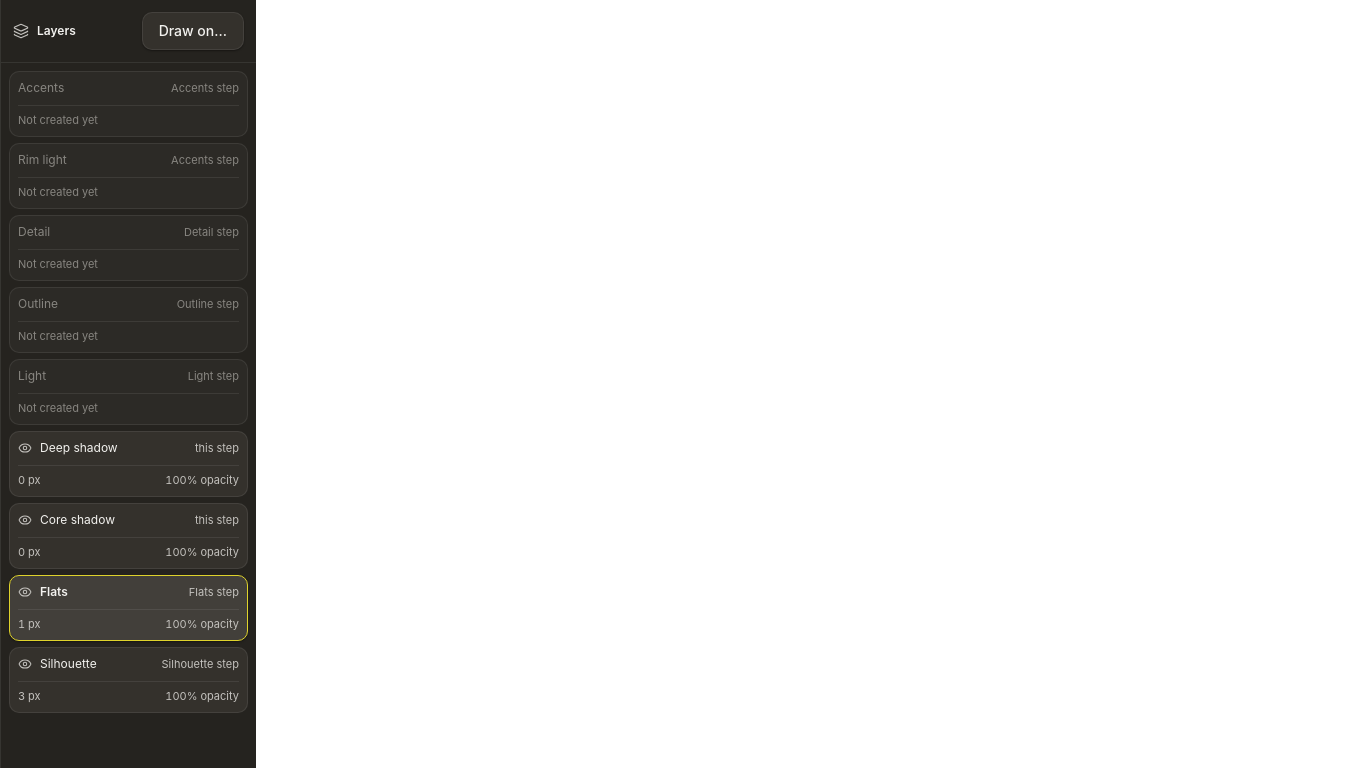
Test case: LayerList › offers the override and the way back from "Draw on…"
Click the button "Draw on…" at (193, 31), box [142,12,244,50]
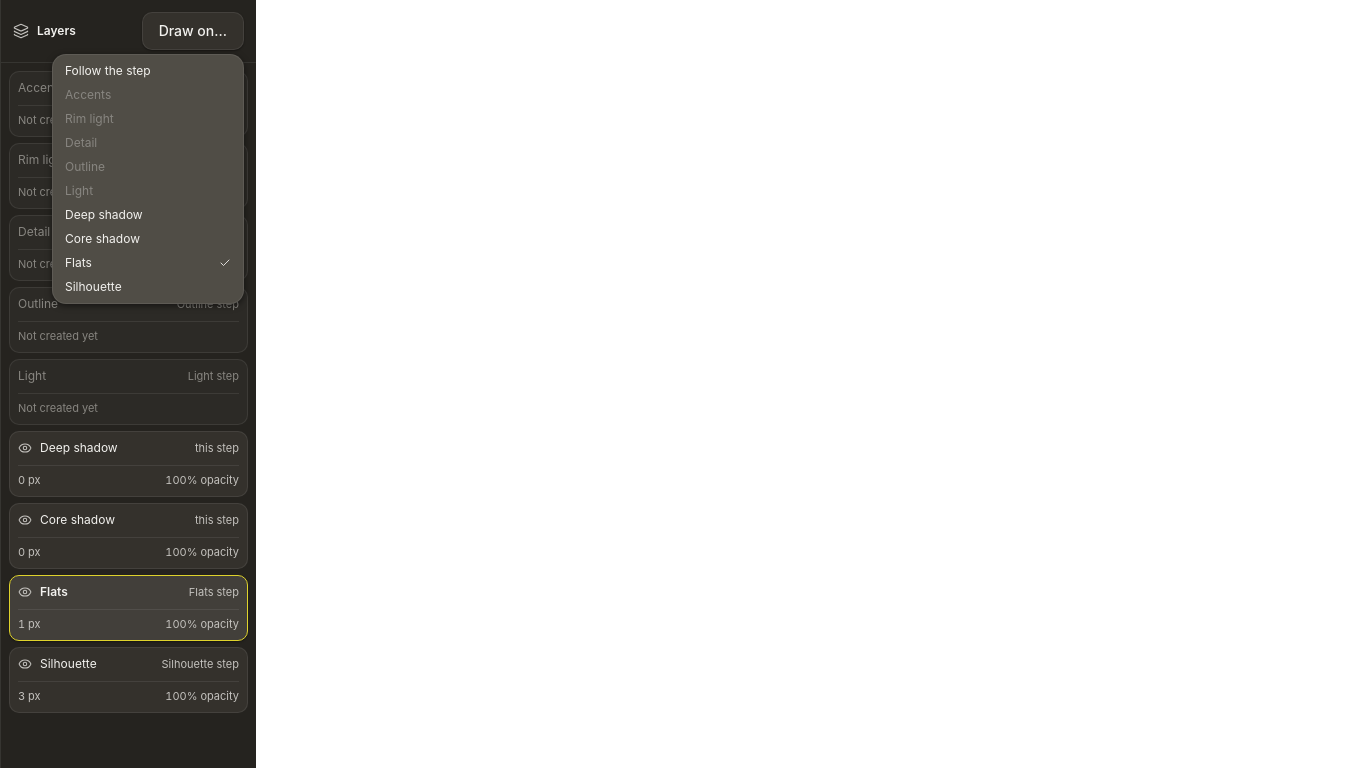
Click the menu item "Follow the step" at (148, 71), box [57,59,239,83]
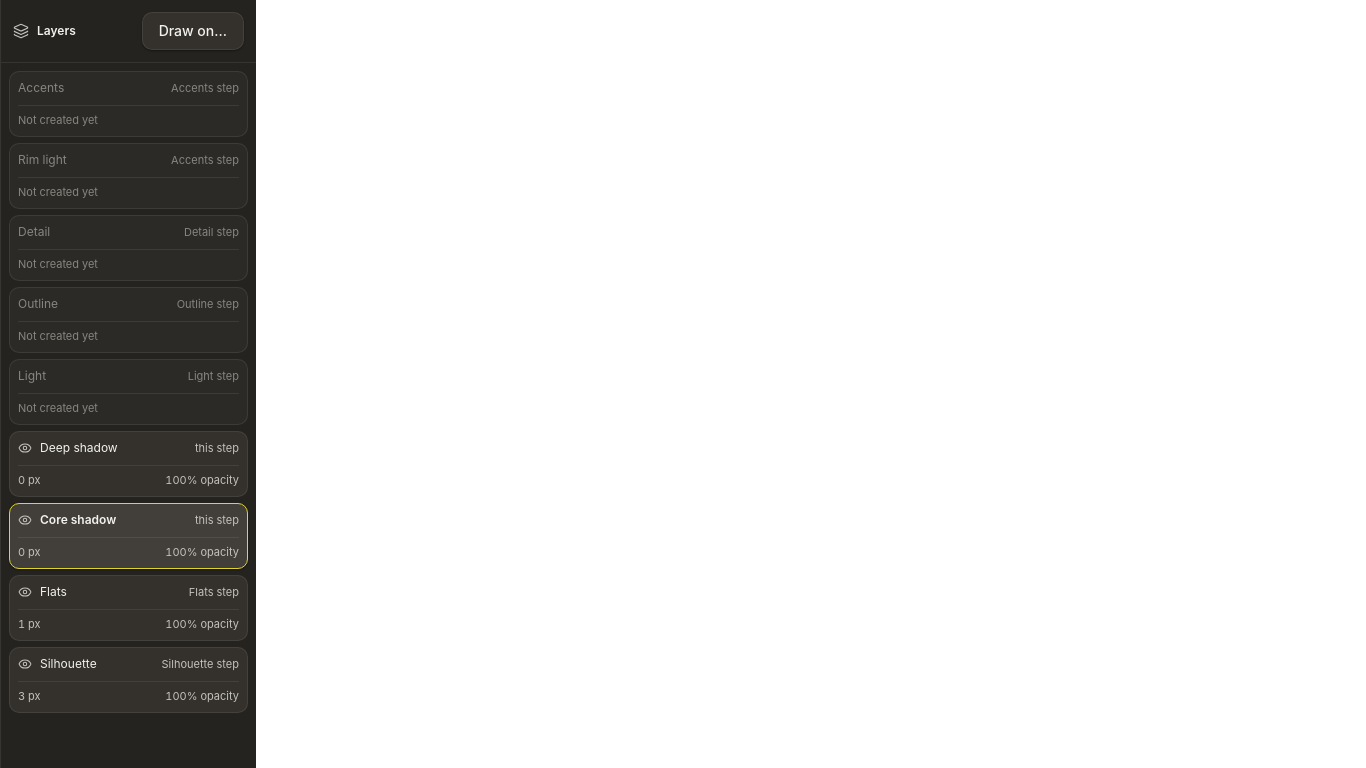
Click the button "Draw on…" at (193, 31), box [142,12,244,50]
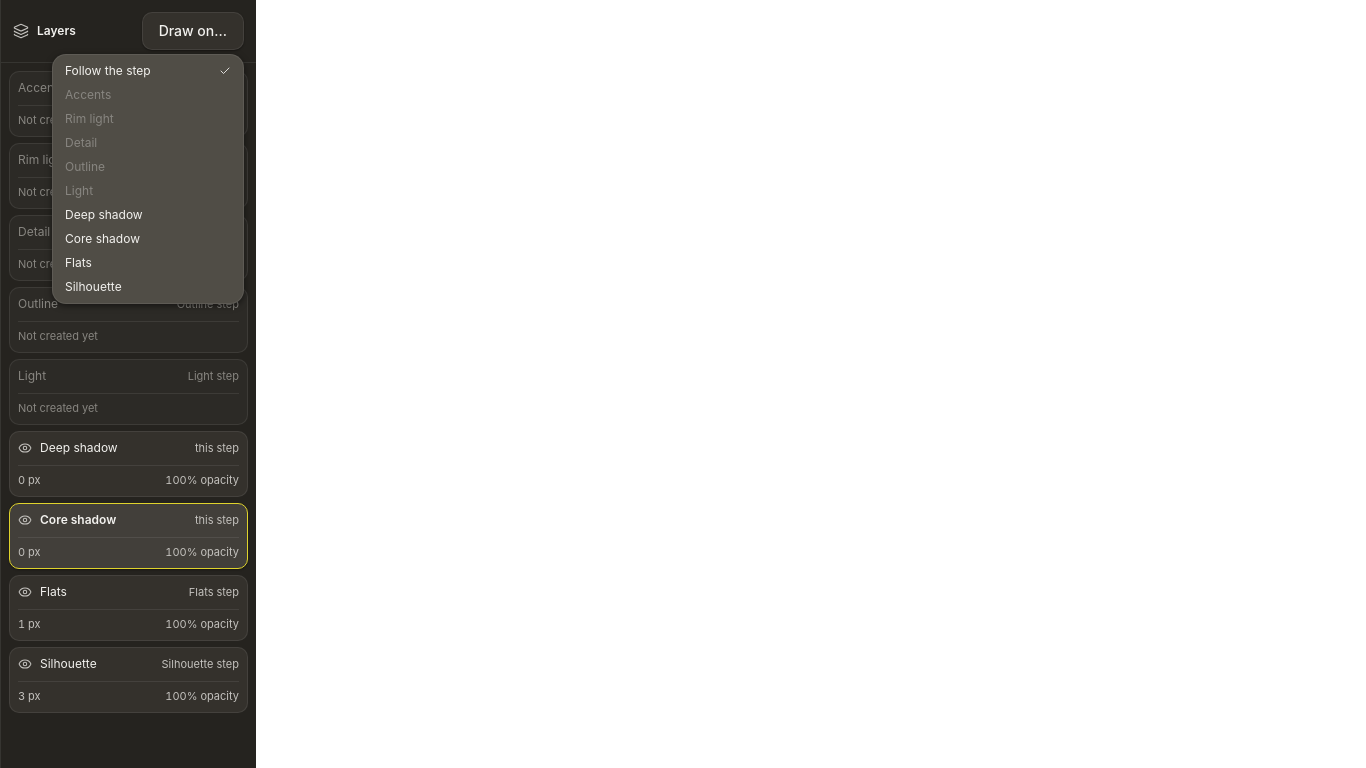
Click the menu item "Silhouette" at (148, 287), box [57,275,239,299]
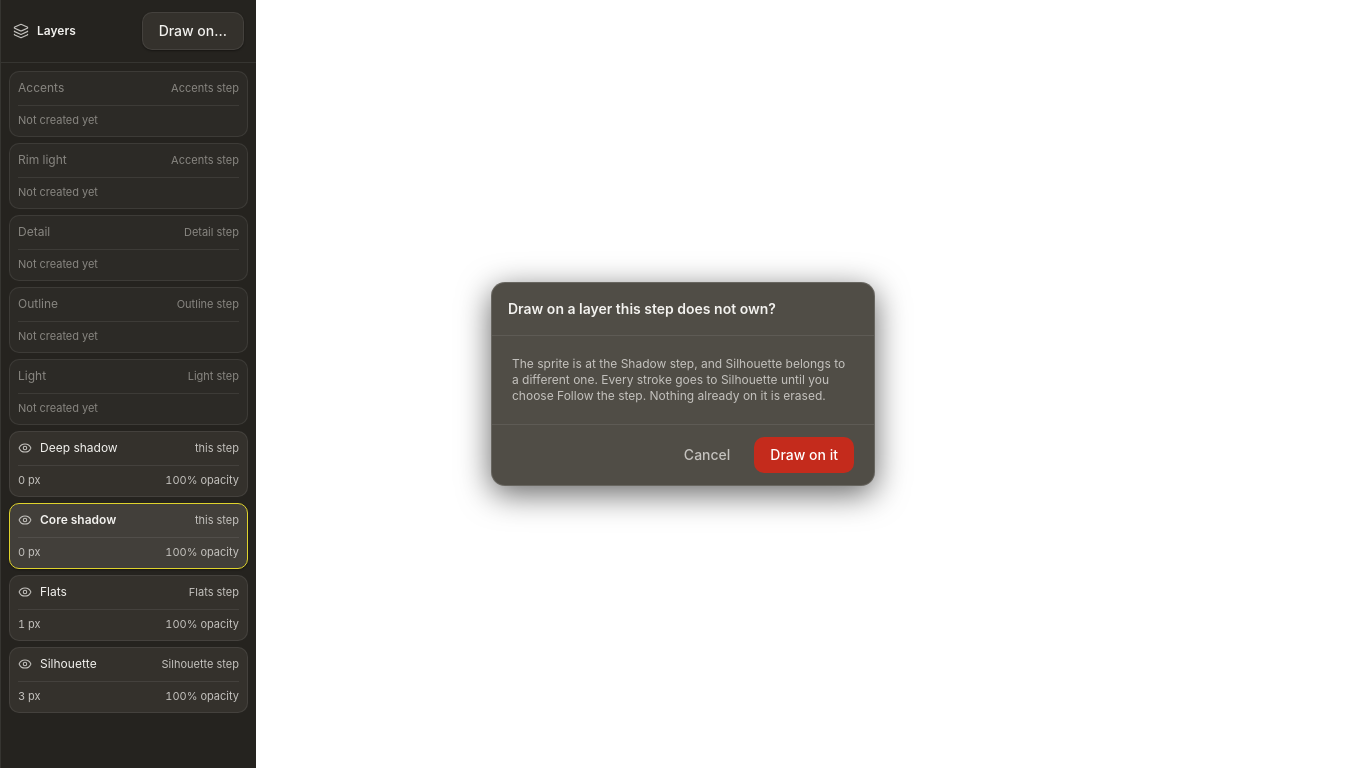
expect the dialog is shown: met, box [491,282,875,486]
